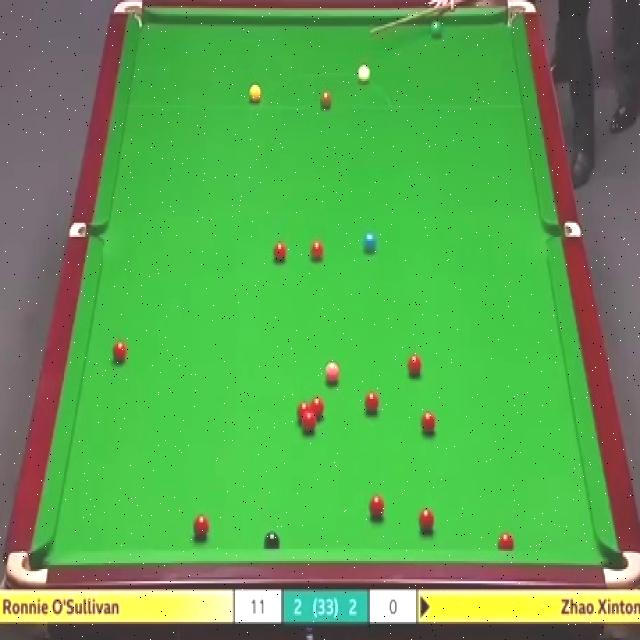black-ball: (263, 530, 282, 551)
blue-ball: (362, 232, 378, 254)
brown-ball: (319, 86, 332, 108)
green-ball: (429, 20, 443, 39)
pink-ball: (324, 362, 341, 386)
red-ball: (418, 508, 436, 535), (192, 512, 209, 540), (361, 388, 379, 414), (407, 351, 423, 378), (368, 495, 385, 520), (111, 337, 127, 362), (296, 401, 311, 426), (421, 409, 436, 433), (310, 239, 325, 262), (274, 238, 286, 266), (311, 396, 324, 421), (302, 414, 318, 434), (497, 531, 515, 548)
white-ball: (356, 64, 370, 84)
yellow-ball: (248, 85, 261, 102)
